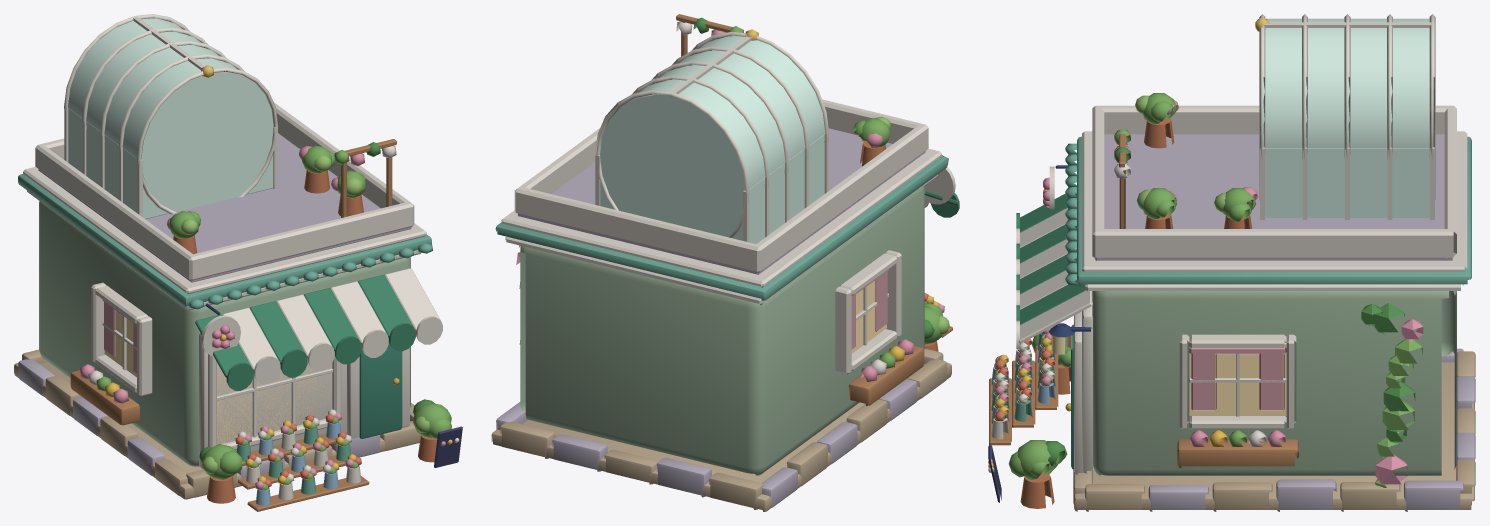
The model's file is ac_florist_r90.glb.
3 renders of one model, left to right at view 1: azimuth 30°, elevation 25°; view 2: azimuth 150°, elevation 25°; view 3: azimuth 270°, elevation 25°, orthographic. The views are drawn at different scales.
Visible parts, largest first — view 1: body; view 2: body; view 3: body.
Part boxes in pixels (x1,y1,x2,y2): body: [14, 14, 462, 511]; body: [491, 14, 959, 511]; body: [988, 14, 1475, 511].
Bounding box in the file's own units: 6.45 × 7.46 × 8.02.
